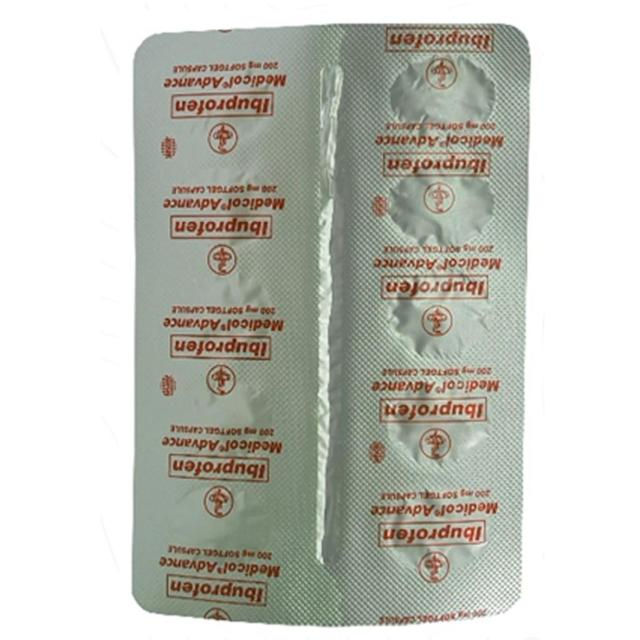blister: (128, 11, 534, 628)
